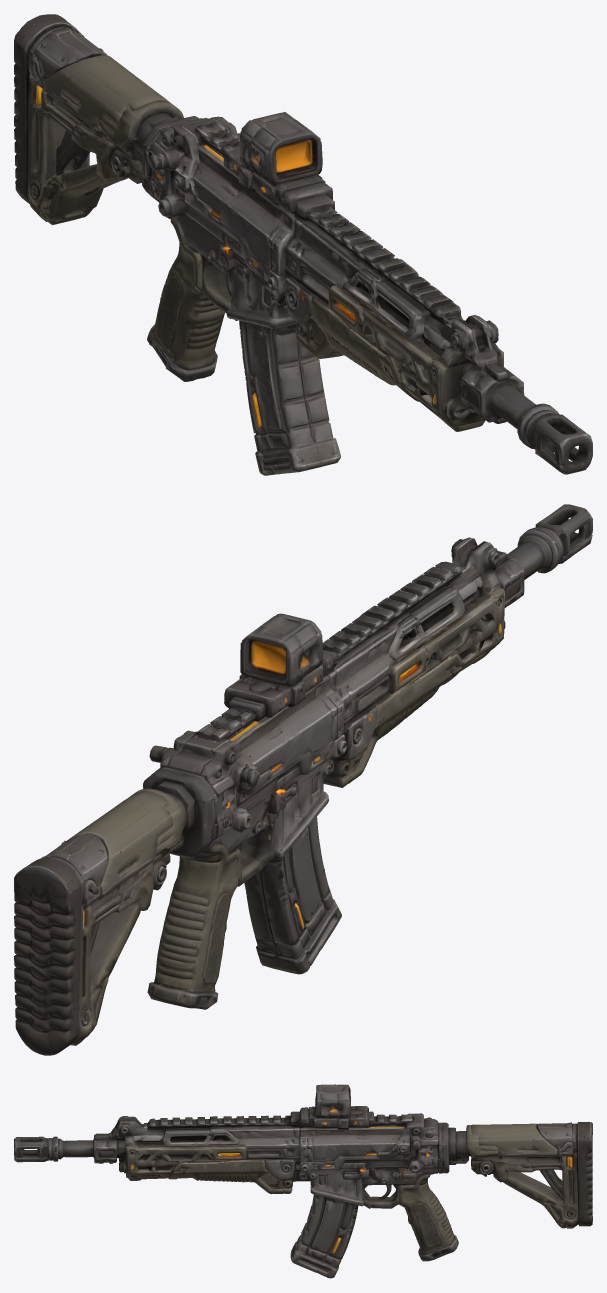
File: assault-rifle-textured-v1.glb
3 renders of one model, top to bottom at view 1: azimuth 30°, elevation 25°; view 2: azimuth 150°, elevation 25°; view 3: azimuth 270°, elevation 25°, orthographic. The views are drawn at different scales.
Parts seen in each view (by area): view 1: tripo_part_1, tripo_part_0, tripo_part_5, tripo_part_3, tripo_part_4, tripo_part_16, tripo_part_6, tripo_part_8, tripo_part_7, tripo_part_11, tripo_part_2, tripo_part_13 (+7 smaller); view 2: tripo_part_1, tripo_part_9, tripo_part_3, tripo_part_0, tripo_part_5, tripo_part_7, tripo_part_16, tripo_part_4, tripo_part_6, tripo_part_2, tripo_part_11, tripo_part_8 (+6 smaller); view 3: tripo_part_1, tripo_part_16, tripo_part_4, tripo_part_3, tripo_part_5, tripo_part_0, tripo_part_6, tripo_part_2, tripo_part_7, tripo_part_8, tripo_part_11, tripo_part_9 (+7 smaller).
Part boxes in pixels (bbox=[...]): tripo_part_1: bbox=[144, 127, 297, 330]; tripo_part_0: bbox=[239, 321, 340, 475]; tripo_part_5: bbox=[27, 24, 183, 152]; tripo_part_3: bbox=[160, 112, 334, 219]; tripo_part_4: bbox=[25, 59, 142, 225]; tripo_part_16: bbox=[285, 204, 460, 320]; tripo_part_6: bbox=[328, 284, 503, 431]; tripo_part_8: bbox=[401, 312, 524, 423]; tripo_part_7: bbox=[150, 217, 224, 370]; tripo_part_11: bbox=[487, 384, 592, 474]; tripo_part_2: bbox=[285, 276, 396, 385]; tripo_part_13: bbox=[341, 269, 437, 342]; tripo_part_1: bbox=[151, 674, 347, 886]; tripo_part_9: bbox=[14, 858, 82, 1055]; tripo_part_3: bbox=[160, 613, 336, 780]; tripo_part_0: bbox=[244, 817, 341, 974]; tripo_part_5: bbox=[41, 788, 184, 909]; tripo_part_7: bbox=[152, 843, 241, 993]; tripo_part_16: bbox=[322, 561, 461, 727]; tripo_part_4: bbox=[71, 850, 170, 1045]; tripo_part_6: bbox=[388, 570, 504, 694]; tripo_part_2: bbox=[323, 665, 451, 787]; tripo_part_11: bbox=[507, 504, 592, 579]; tripo_part_8: bbox=[444, 537, 524, 628]; tripo_part_1: bbox=[293, 1122, 443, 1208]; tripo_part_16: bbox=[142, 1115, 300, 1169]; tripo_part_4: bbox=[471, 1153, 578, 1228]; tripo_part_3: bbox=[290, 1084, 439, 1149]; tripo_part_5: bbox=[466, 1122, 577, 1157]; tripo_part_0: bbox=[290, 1194, 358, 1278]; tripo_part_6: bbox=[117, 1135, 248, 1180]; tripo_part_2: bbox=[179, 1159, 298, 1194]; tripo_part_7: bbox=[397, 1174, 455, 1254]; tripo_part_8: bbox=[93, 1116, 207, 1172]; tripo_part_11: bbox=[14, 1136, 93, 1162]; tripo_part_9: bbox=[577, 1122, 592, 1226].
Bounding box in the file's own units: 0.1086 × 0.3447 × 0.9795.
Materials: 43 (43 with a texture image).
